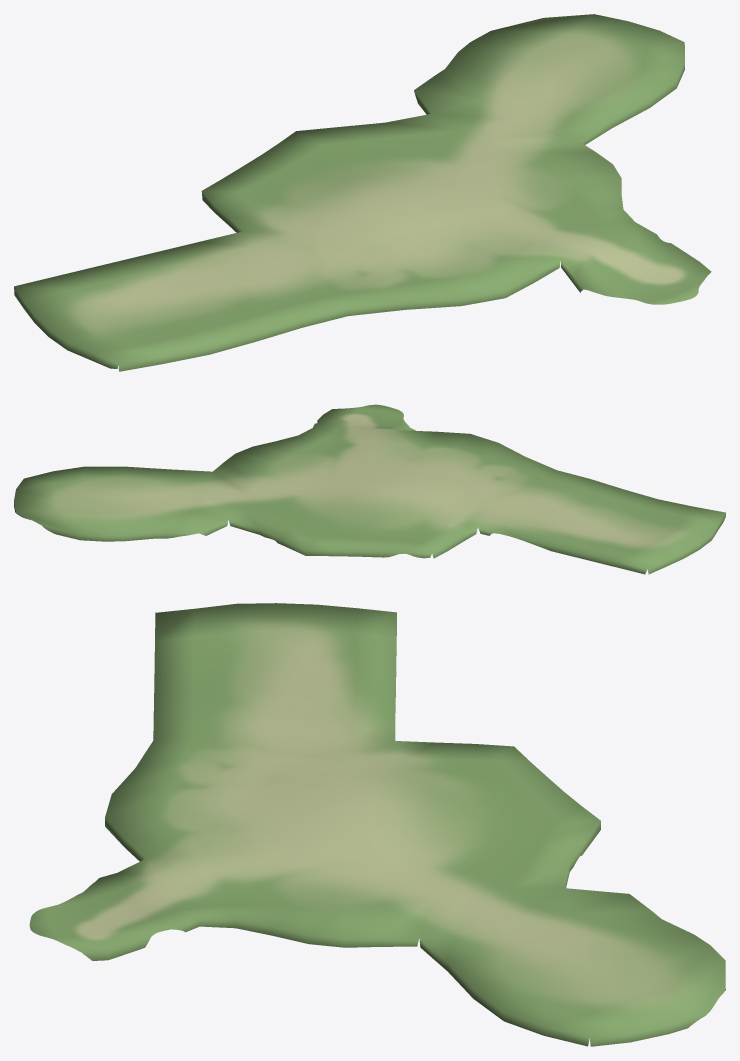
File: level_1_BAKELESS.glb
3 renders of one model, top to bottom at view 1: azimuth 30°, elevation 25°; view 2: azimuth 150°, elevation 25°; view 3: azimuth 270°, elevation 25°, orthographic. The views are drawn at different scales.
Parts seen in each view (by area): view 1: Plane.010; view 2: Plane.010; view 3: Plane.010.
Boxes of the visible parts, x1,y1,x2,y2 form: Plane.010: (14,14,711,371); Plane.010: (14,404,725,574); Plane.010: (29,603,725,1046).
Size of the model in its own units: 64.81 by 3.18 by 44.96.
1 material, 1 textured.
